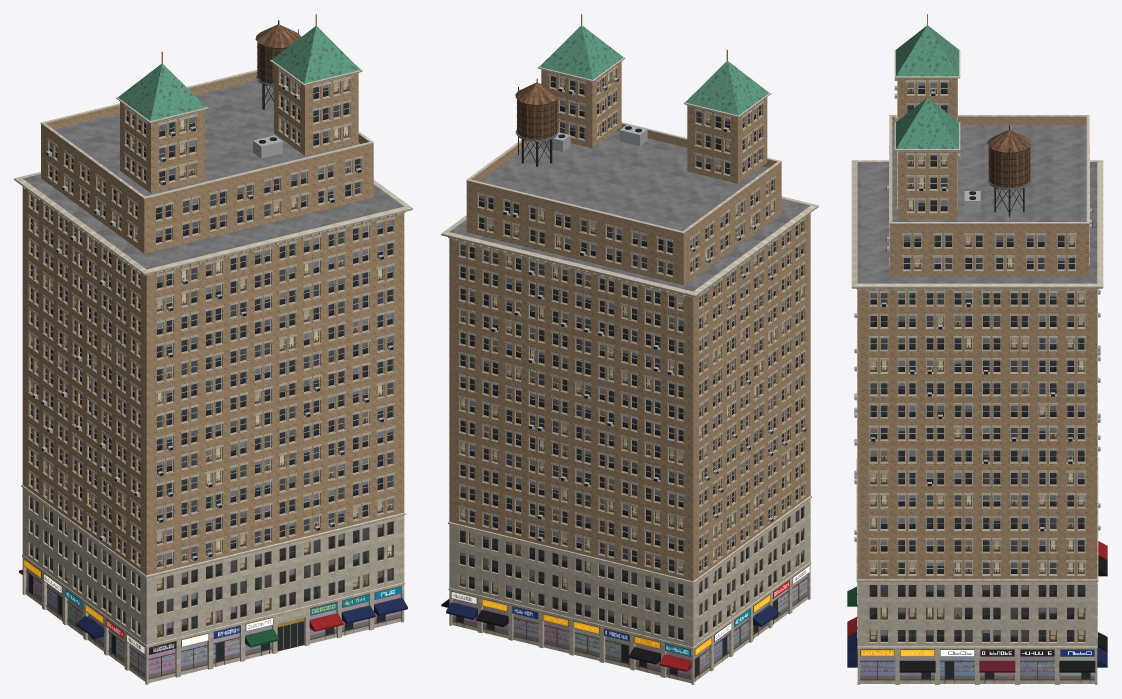
File: hd02_uws_twin_turret.gltf
3 views of the same model, side by side, from view 1: azimuth 30°, elevation 25°; view 2: azimuth 150°, elevation 25°; view 3: azimuth 270°, elevation 25° (orthographic). The views are drawn at different scales.
Parts seen in each view (by area): view 1: hd02_uws_twin_turret_LOD0; view 2: hd02_uws_twin_turret_LOD0; view 3: hd02_uws_twin_turret_LOD0.
Part boxes in pixels (x1,y1,x2,y2): hd02_uws_twin_turret_LOD0: (14,14,412,684); hd02_uws_twin_turret_LOD0: (441,14,818,684); hd02_uws_twin_turret_LOD0: (847,14,1107,684).
Size of what is drawn, in the model's own units: 38.6 by 79.25 by 32.6.
Materials: 21 (8 with a texture image).
